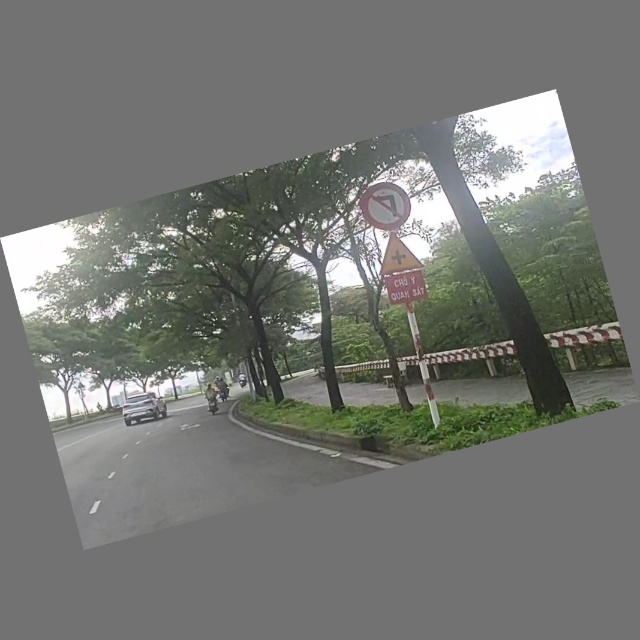P.123a: (354, 175, 419, 237)
W.205a: (369, 224, 431, 281)
